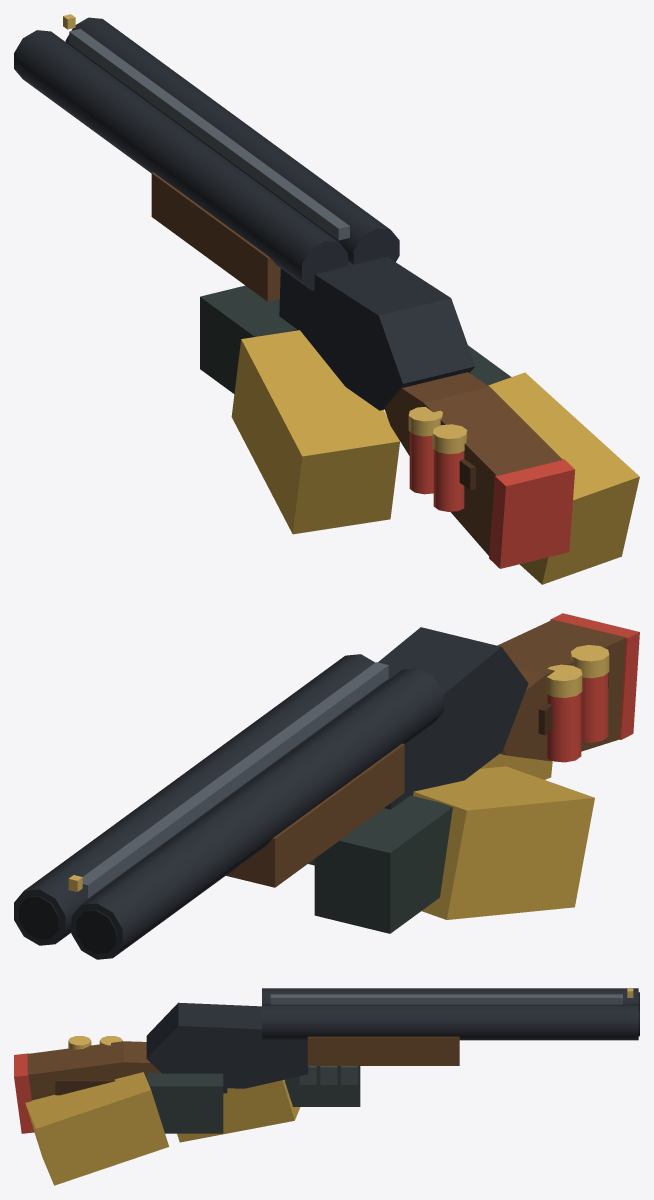
Rendered from rock_salt.glb.
3 views of the same model, one above another, from view 1: azimuth 30°, elevation 25°; view 2: azimuth 150°, elevation 25°; view 3: azimuth 270°, elevation 25° (orthographic). The views are drawn at different scales.
Visible parts, largest first — view 1: _MeshInstance3D_3600, _MeshInstance3D_3585, _MeshInstance3D_3582, _MeshInstance3D_3606, _MeshInstance3D_3583, _MeshInstance3D_3586, _MeshInstance3D_3584, _MeshInstance3D_3592, _MeshInstance3D_3587, _MeshInstance3D_3599, _MeshInstance3D_3589, _MeshInstance3D_3588 (+2 smaller); view 2: _MeshInstance3D_3585, _MeshInstance3D_3600, _MeshInstance3D_3582, _MeshInstance3D_3599, _MeshInstance3D_3586, _MeshInstance3D_3587, _MeshInstance3D_3592, _MeshInstance3D_3583, _MeshInstance3D_3584, _MeshInstance3D_3588, _MeshInstance3D_3589, _MeshInstance3D_3590 (+4 smaller); view 3: _MeshInstance3D_3586, _MeshInstance3D_3606, _MeshInstance3D_3582, _MeshInstance3D_3587, _MeshInstance3D_3583, _MeshInstance3D_3605, _MeshInstance3D_3592, _MeshInstance3D_3600, _MeshInstance3D_3585, _MeshInstance3D_3599, _MeshInstance3D_3584, _MeshInstance3D_3596 (+2 smaller).
Part boxes in pixels (box(x1,y1,x2,y2)): _MeshInstance3D_3600: box(231, 330, 399, 534); _MeshInstance3D_3585: box(14, 30, 347, 290); _MeshInstance3D_3582: box(279, 257, 475, 410); _MeshInstance3D_3606: box(488, 372, 639, 584); _MeshInstance3D_3583: box(384, 372, 562, 555); _MeshInstance3D_3586: box(65, 17, 399, 264); _MeshInstance3D_3584: box(489, 459, 575, 568); _MeshInstance3D_3592: box(69, 28, 349, 240); _MeshInstance3D_3587: box(151, 172, 280, 301); _MeshInstance3D_3599: box(200, 285, 296, 393); _MeshInstance3D_3589: box(433, 449, 464, 511); _MeshInstance3D_3588: box(409, 432, 433, 494); _MeshInstance3D_3585: box(71, 668, 443, 959); _MeshInstance3D_3600: box(413, 766, 594, 919); _MeshInstance3D_3582: box(378, 627, 528, 809); _MeshInstance3D_3599: box(314, 795, 452, 933); _MeshInstance3D_3586: box(14, 654, 386, 945); _MeshInstance3D_3587: box(226, 743, 404, 887); _MeshInstance3D_3592: box(75, 662, 388, 898); _MeshInstance3D_3583: box(497, 619, 626, 761); _MeshInstance3D_3584: box(550, 613, 639, 739); _MeshInstance3D_3588: box(547, 693, 581, 762); _MeshInstance3D_3589: box(581, 673, 608, 742); _MeshInstance3D_3590: box(76, 910, 116, 953); _MeshInstance3D_3586: box(262, 1004, 638, 1040); _MeshInstance3D_3606: box(25, 1072, 169, 1185); _MeshInstance3D_3582: box(146, 1002, 308, 1088); _MeshInstance3D_3587: box(307, 1036, 459, 1065); _MeshInstance3D_3583: box(27, 1041, 160, 1100); _MeshInstance3D_3605: box(147, 1072, 223, 1133); _MeshInstance3D_3592: box(270, 994, 622, 1004); _MeshInstance3D_3600: box(177, 1079, 300, 1142); _MeshInstance3D_3585: box(262, 988, 638, 1004); _MeshInstance3D_3599: box(285, 1066, 360, 1106); _MeshInstance3D_3584: box(14, 1053, 34, 1133); _MeshInstance3D_3596: box(55, 1079, 115, 1095).
Bounding box in the file's own units: 0.1445 × 0.1452 × 0.5151.
